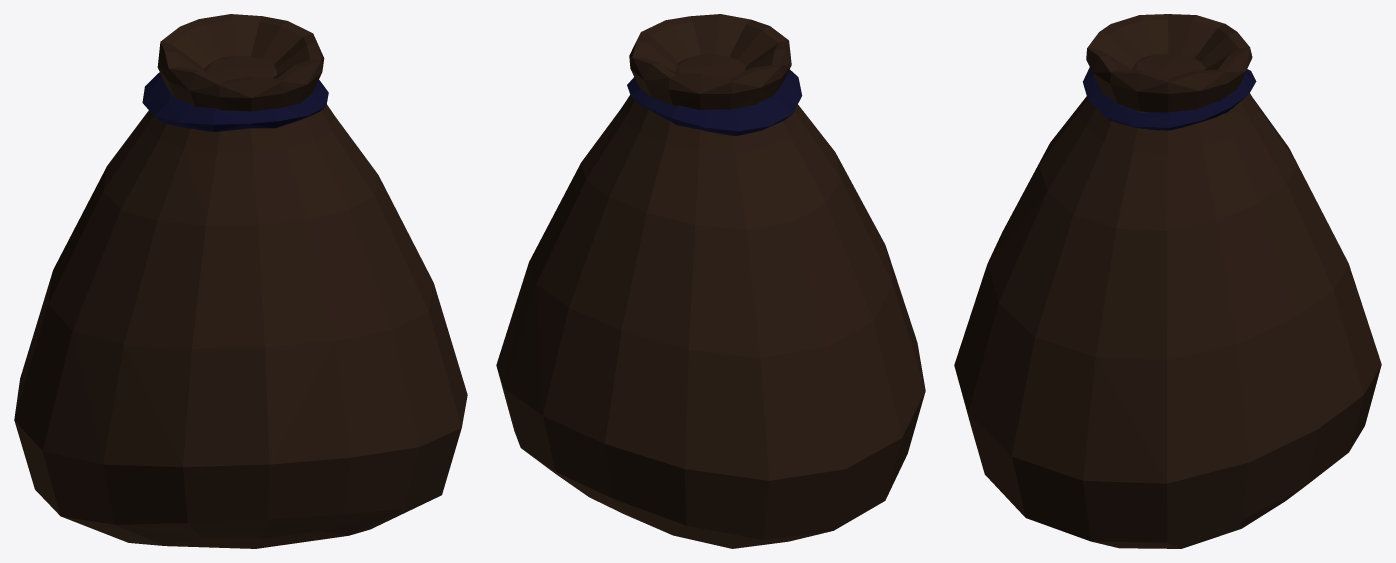
Rendered from Bag_Standing_Cylinder.obj.
3 views of the same model, side by side, from view 1: azimuth 30°, elevation 25°; view 2: azimuth 150°, elevation 25°; view 3: azimuth 270°, elevation 25° (orthographic). The views are drawn at different scales.
Visible parts, largest first — view 1: Bag_Standing_Cylinder.001; view 2: Bag_Standing_Cylinder.001; view 3: Bag_Standing_Cylinder.001.
Part boxes in pixels (x1,y1,x2,y2): Bag_Standing_Cylinder.001: (14, 14, 467, 548); Bag_Standing_Cylinder.001: (496, 14, 925, 548); Bag_Standing_Cylinder.001: (954, 14, 1381, 548).
Size of the model in its own units: 0.2178 by 0.2527 by 0.2099.
